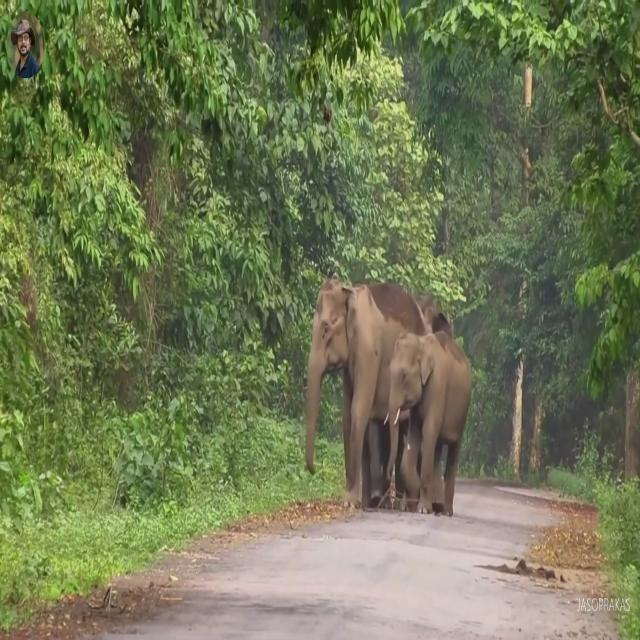Elephant: (305, 277, 452, 511), (384, 328, 472, 516)
